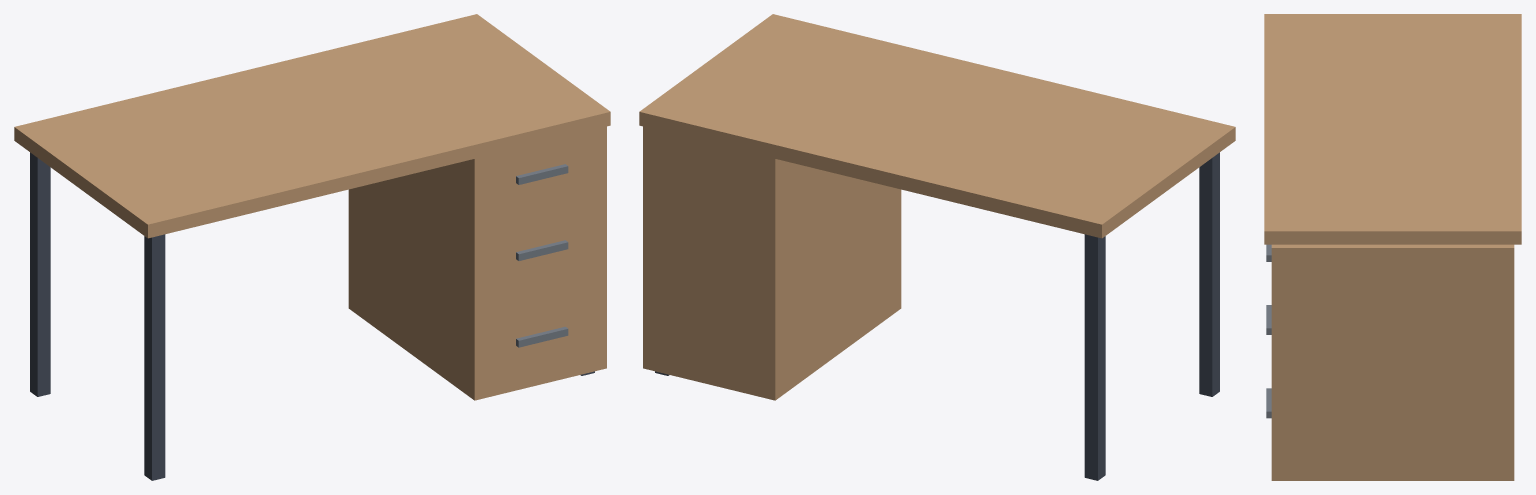
Rendered from office_desk.glb.
3 views of the same model, side by side, from view 1: azimuth 30°, elevation 25°; view 2: azimuth 150°, elevation 25°; view 3: azimuth 270°, elevation 25° (orthographic). The views are drawn at different scales.
Parts seen in each view (by area): view 1: office_desk; view 2: office_desk; view 3: office_desk.
Part boxes in pixels (left/top/right/bottom): office_desk: left=14, top=14, right=610, bottom=480; office_desk: left=639, top=14, right=1235, bottom=480; office_desk: left=1264, top=14, right=1521, bottom=480.
Bounding box in the file's own units: 1.4 × 0.76 × 0.7.
